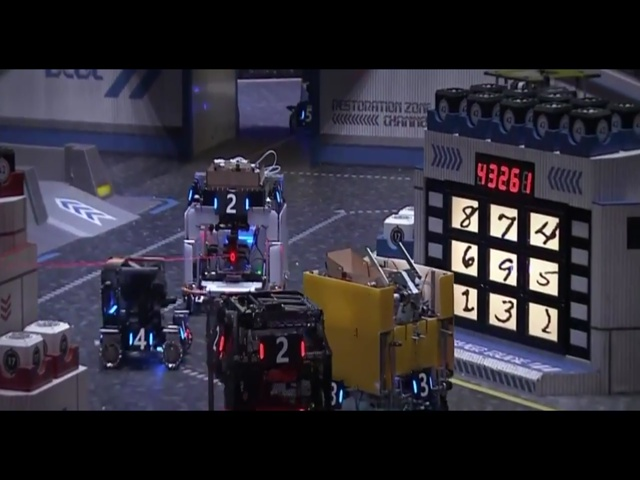bluePlate: (207, 193, 251, 219), (407, 369, 435, 402), (126, 325, 156, 352), (325, 380, 347, 406), (268, 181, 287, 205), (294, 104, 315, 125), (172, 320, 190, 344)
redPlate: (254, 335, 307, 367), (208, 322, 229, 357)
